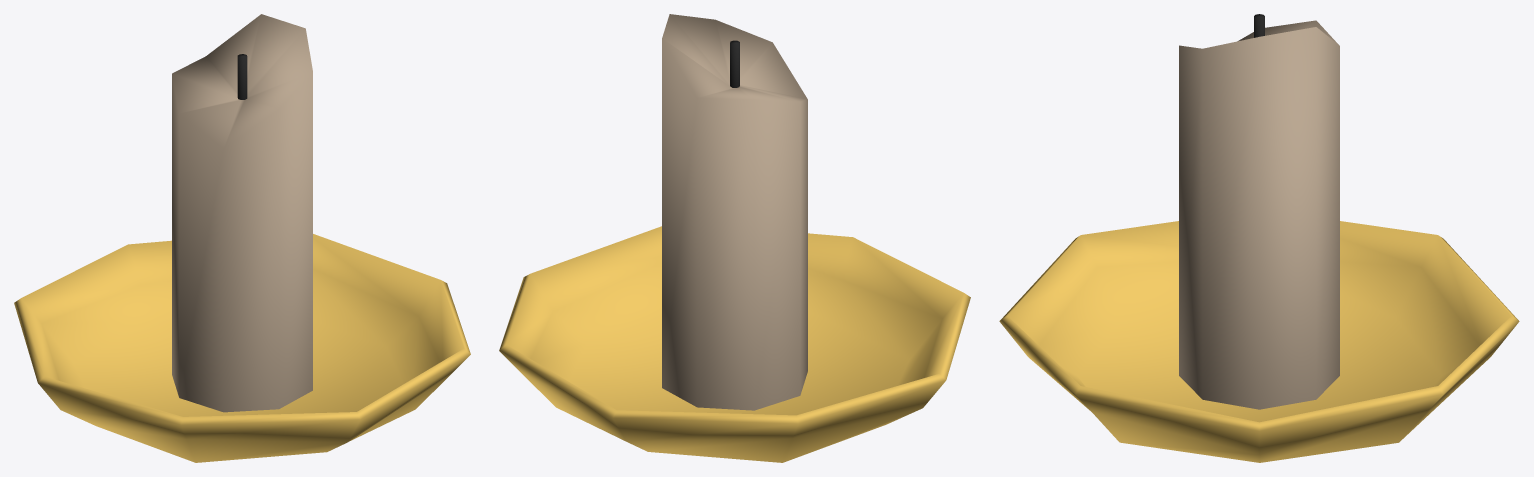
The model's file is candleholder.fbx.
3 renders of one model, left to right at view 1: azimuth 30°, elevation 25°; view 2: azimuth 150°, elevation 25°; view 3: azimuth 270°, elevation 25°, orthographic. The views are drawn at different scales.
Visible parts, largest first — view 1: base; view 2: base; view 3: base.
Boxes of the visible parts, left/top/right/bottom form: base: left=14, top=14, right=470, bottom=462; base: left=499, top=14, right=970, bottom=462; base: left=999, top=14, right=1519, bottom=462.
Size of the model in its own units: 51.01 by 41.34 by 51.01.
